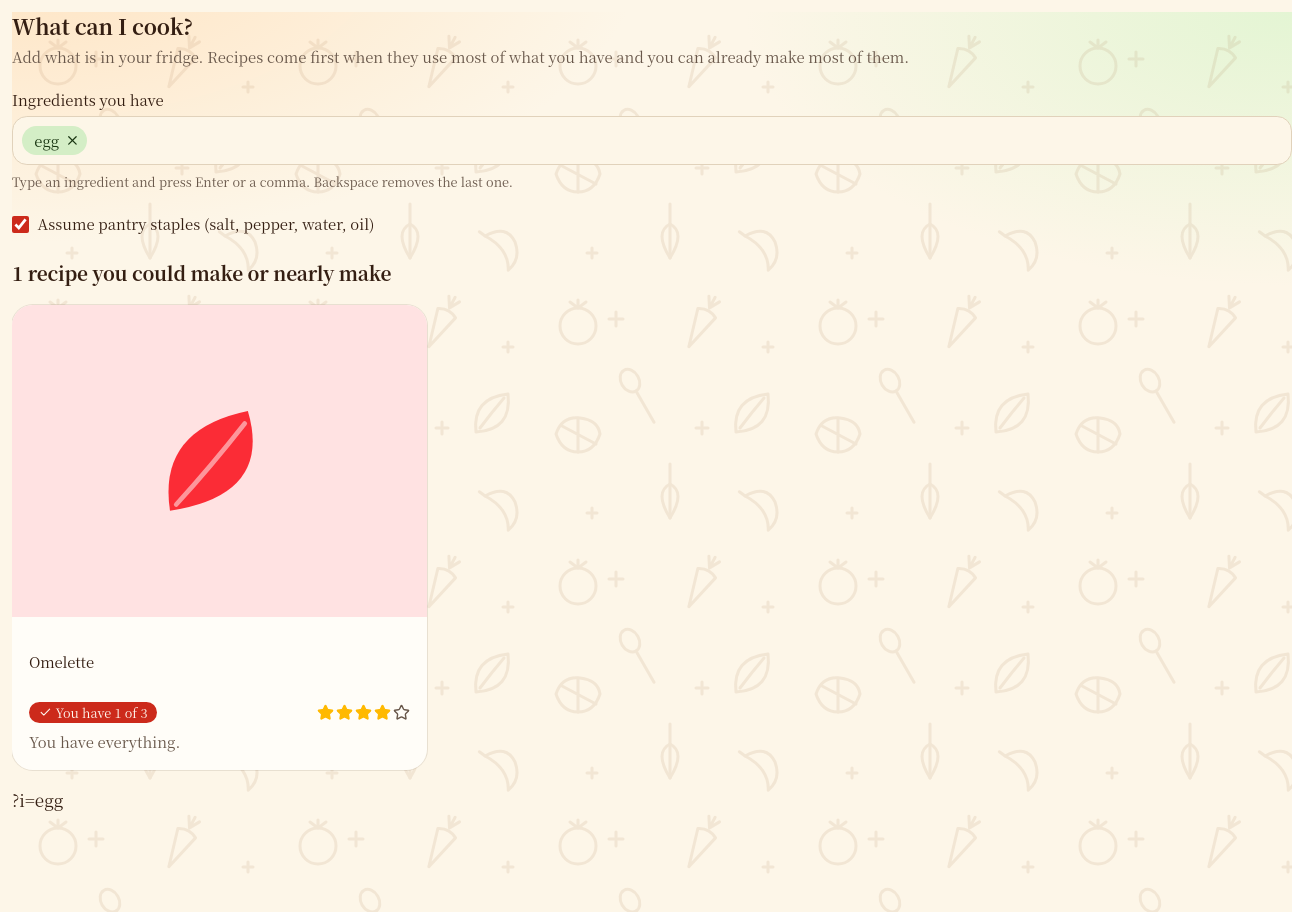
MatchPage › searches again and updates the URL when the staples switch changes
expect the text "You have 1 of 3" is shown: met, box [29,702,157,723]
Click the checkbox: (20, 224) [12,216,29,233]
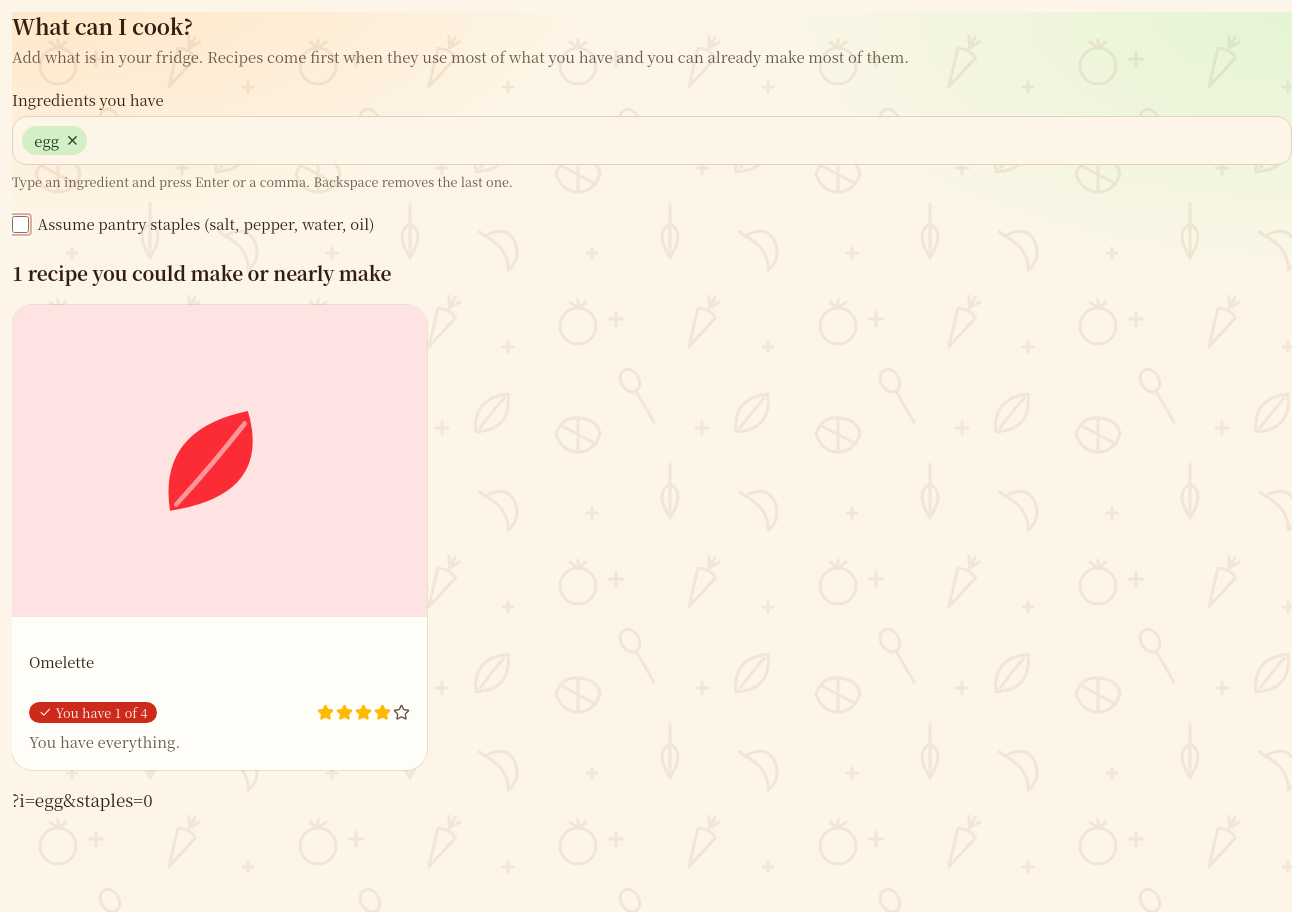
expect the text "You have 1 of 4" is shown: met, box [29,702,157,723]
expect the text with test id "search" reads "?i=egg&staples=0": met, box [12,787,152,812]
